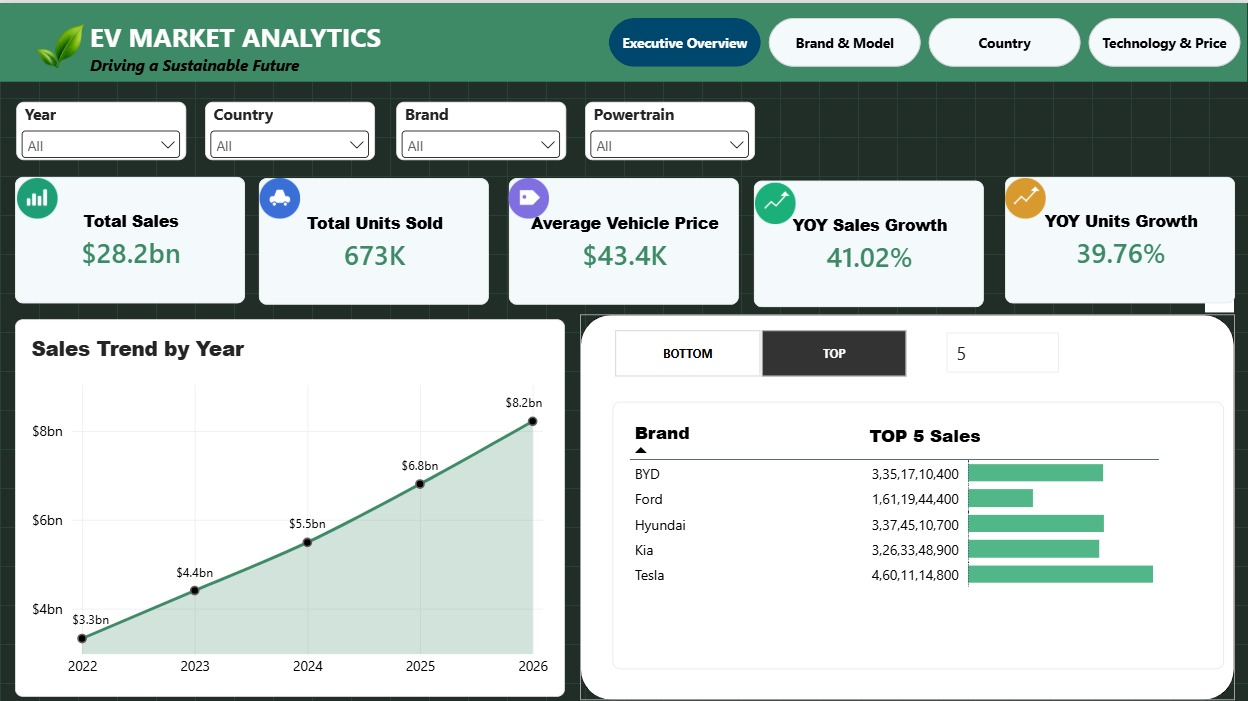

Layout of this report page (visuals, bound fields, positions):
{"tool":"powerbi","page":{"name":"Executive Overview ","canvas":[1280,720],"ordinal":34},"visuals":[{"type":"shape","box":[0,0,1279.5,80.8],"z":0},{"type":"textbox","box":[92.3,16.7,448.7,64.1],"z":1000},{"type":"lineChart","title":"Sales Trend by Year","fields":{"Category":["Dim_Date.Year"],"Y":["Calculation_Table.Total Sales"]},"box":[15.6,324.7,564.1,387.2],"z":2000},{"type":"pageNavigator","box":[624.7,15.6,649.2,50.5],"z":3000},{"type":"shape","box":[594.8,319.5,671.4,396.1],"z":4000},{"type":"slicer","fields":{"Values":["USER_SELECTION.USER"]},"box":[610.3,333.3,338.5,51.3],"z":5000},{"type":"slicer","fields":{"Values":["Top_Bottom_Value.RANK"]},"box":[962.8,333.3,166.7,51.3],"z":6000},{"type":"slicer","fields":{"Values":["Dim_Date.Year"]},"box":[16,101.2,174,59.7],"z":7000},{"type":"slicer","fields":{"Values":["Dim_Location.Country"]},"box":[209.9,101.2,174,59.7],"z":8000},{"type":"slicer","fields":{"Values":["Dim_Vehicle.Brand"]},"box":[406.2,101.2,174,59.7],"z":9000},{"type":"slicer","fields":{"Values":["Dim_Vehicle.Powertrain"]},"box":[600,101.2,174,59.7],"z":10000},{"type":"cardVisual","fields":{"Data":["Calculation_Table.Total Units Sold"]},"box":[265.4,179.8,236.5,130.3],"z":11000},{"type":"cardVisual","fields":{"Data":["Calculation_Table.Total Sales"]},"box":[15.7,178.6,236.5,130.3],"z":12000},{"type":"cardVisual","fields":{"Data":["Calculation_Table.Average Vehicle Price"]},"box":[521.2,179.8,236.5,130.3],"z":13000},{"type":"cardVisual","fields":{"Data":["Calculation_Table.YOY Sales Growth"]},"box":[773.6,181.7,236.5,130.3],"z":14000},{"type":"cardVisual","fields":{"Data":["Calculation_Table.YOY Units Growth"]},"box":[1030.3,178.6,236.5,130.3],"z":15000},{"type":"image","box":[16,179,43.2,42],"z":16000},{"type":"image","box":[265.4,179,43.2,42],"z":17000},{"type":"image","box":[503.7,179,76.5,42],"z":18000},{"type":"image","box":[774.1,179,42,51.9],"z":19000},{"type":"image","box":[1020,178.9,62,41.8],"z":20000},{"type":"image","box":[0,16.7,228.2,114.1],"z":21000},{"type":"tableEx","fields":{"Values":["Dim_Vehicle.Brand","Calculation_Table.Brand_TOP_BOTTOM","_Measures.TOP_BOTTOM_BARS"]},"box":[628.2,409,626.9,274],"z":22000},{"type":"cardVisual","fields":{"Data":["_Measures.TOP_BOTTOM_NAME"]},"box":[875.6,417.9,196.2,52.6],"z":23000}]}

Visuals, with their boxes in screenshot pixels (x1, y1, x2, y2), scaled from the page's 1280x720 canvas onto the 1248x701 screenshot:
shape: (0,0,1247,79)
textbox: (90,16,527,79)
"Sales Trend by Year" lineChart: (15,316,565,693)
pageNavigator: (609,15,1242,64)
shape: (580,311,1235,697)
slicer - USER_SELECTION.USER: (595,325,925,374)
slicer - Top_Bottom_Value.RANK: (939,325,1101,374)
slicer - Dim_Date.Year: (16,99,185,157)
slicer - Dim_Location.Country: (205,99,374,157)
slicer - Dim_Vehicle.Brand: (396,99,566,157)
slicer - Dim_Vehicle.Powertrain: (585,99,755,157)
cardVisual - Calculation_Table.Total Units Sold: (259,175,489,302)
cardVisual - Calculation_Table.Total Sales: (15,174,246,301)
cardVisual - Calculation_Table.Average Vehicle Price: (508,175,739,302)
cardVisual - Calculation_Table.YOY Sales Growth: (754,177,985,304)
cardVisual - Calculation_Table.YOY Units Growth: (1005,174,1235,301)
image: (16,174,58,215)
image: (259,174,301,215)
image: (491,174,566,215)
image: (755,174,796,225)
image: (994,174,1055,215)
image: (0,16,222,127)
tableEx - Dim_Vehicle.Brand x Calculation_Table.Brand_TOP_BOTTOM: (612,398,1224,665)
cardVisual - _Measures.TOP_BOTTOM_NAME: (854,407,1045,458)
